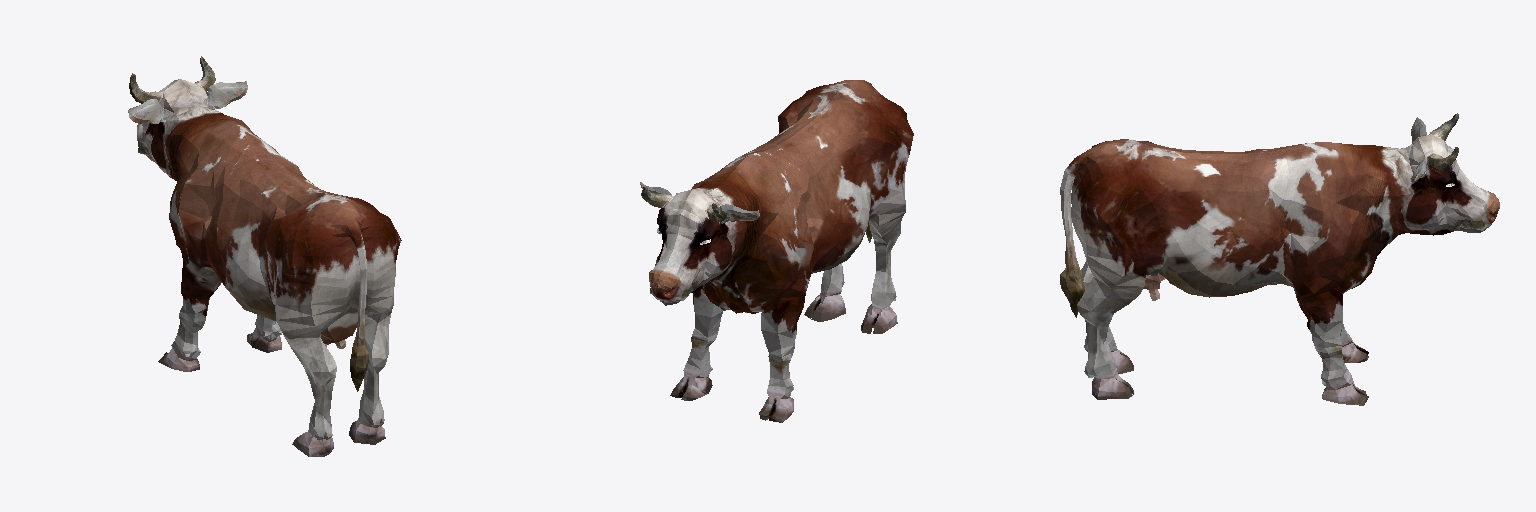
3 views of the same model, side by side, from view 1: azimuth 30°, elevation 25°; view 2: azimuth 150°, elevation 25°; view 3: azimuth 270°, elevation 25° (orthographic).
Parts seen in each view (by area): view 1: cowTM08New00RTime02; view 2: cowTM08New00RTime02; view 3: cowTM08New00RTime02.
Part boxes in pixels (x1,y1,x2,y2): cowTM08New00RTime02: (128,56,401,456); cowTM08New00RTime02: (640,80,913,422); cowTM08New00RTime02: (1060,113,1499,405).
Bounding box in the file's own units: 3.07 × 6.22 × 9.84.
Materials: 2 (2 with a texture image).